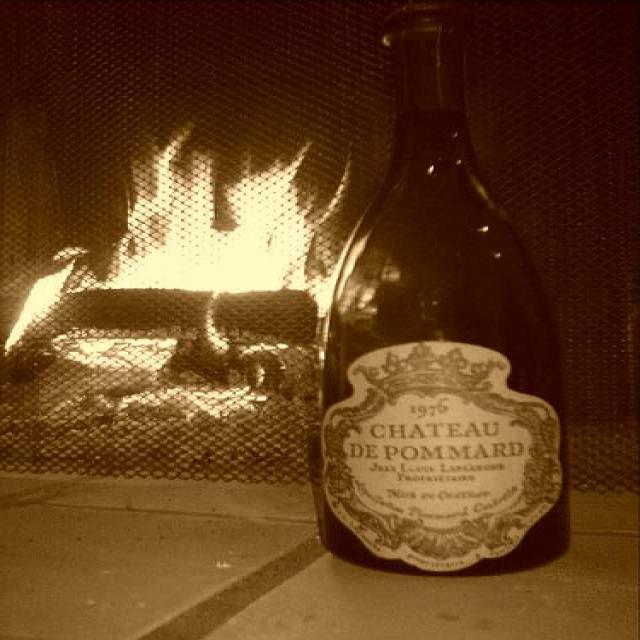bottle: (312, 3, 568, 577)
